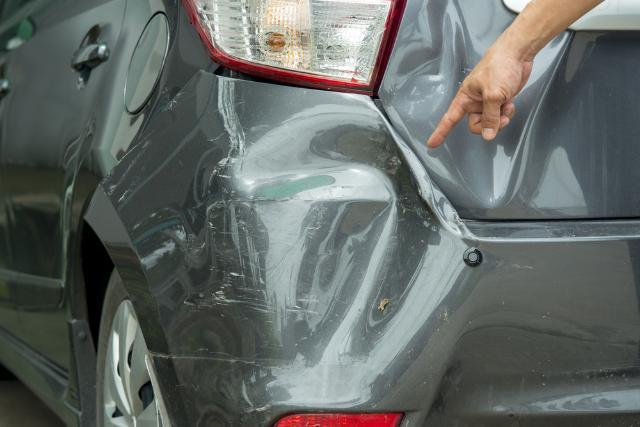dent: (227, 111, 466, 410), (438, 84, 541, 204), (386, 0, 455, 120)
dislocated part: (201, 59, 370, 99)
scratch: (179, 156, 269, 322)
